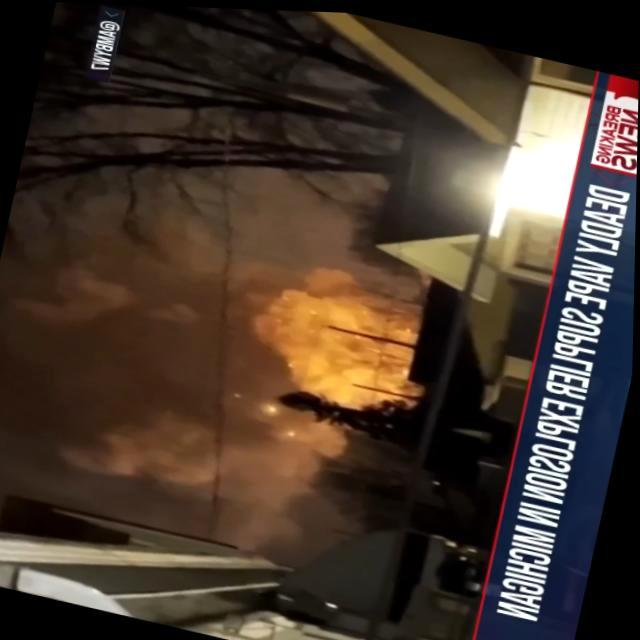fire: (235, 261, 441, 455)
